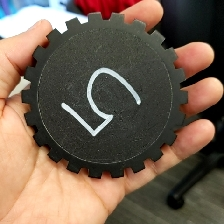gear: (19, 11, 189, 180)
